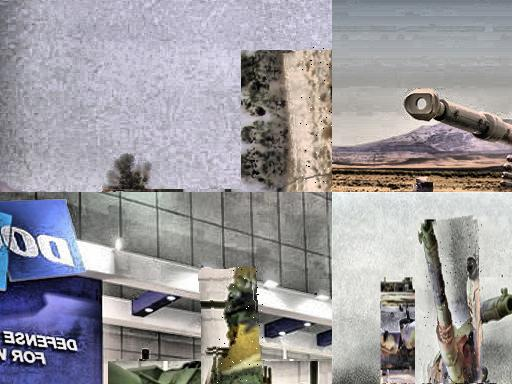tanks: (420, 224, 484, 384), (407, 91, 512, 145), (219, 268, 264, 384), (416, 183, 434, 193)
